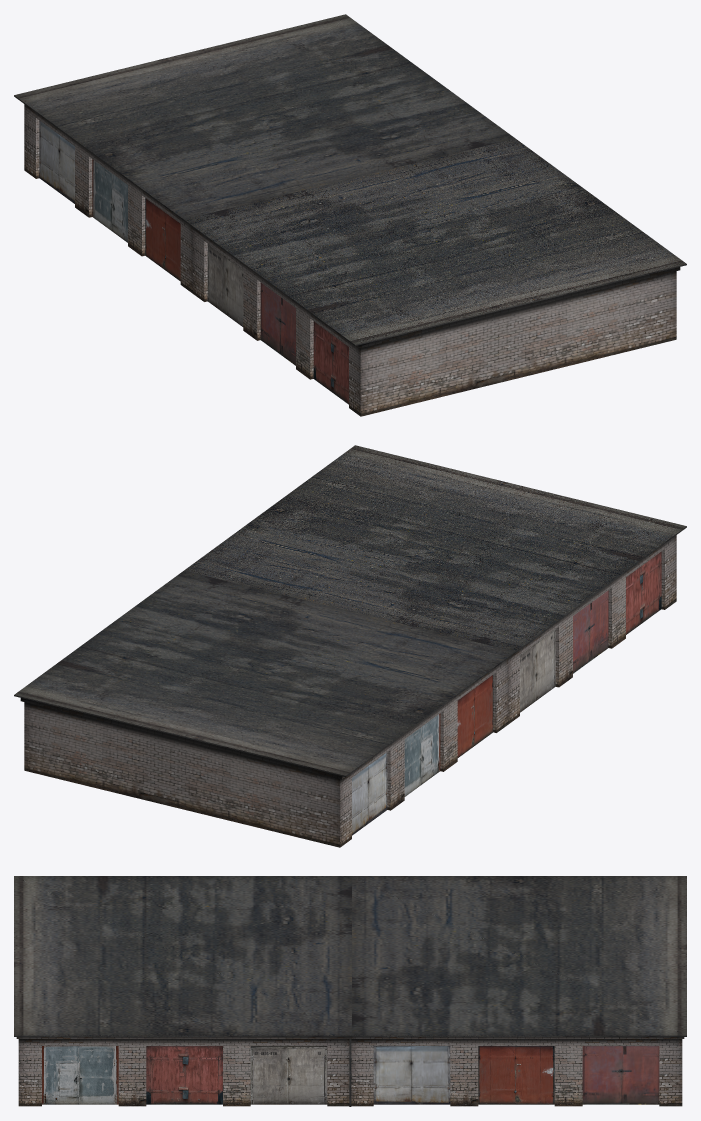
The model's file is Garage1205201.fbx.
The picture shows the model from 3 angles, top to bottom: view 1: azimuth 30°, elevation 25°; view 2: azimuth 150°, elevation 25°; view 3: azimuth 270°, elevation 25°; orthographic projection.
Visible parts, largest first — view 1: Object001; view 2: Object001; view 3: Object001.
Part boxes in pixels (x1=…): Object001: x1=14, y1=14, x2=686, y2=416; Object001: x1=14, y1=445, x2=686, y2=847; Object001: x1=14, y1=876, x2=686, y2=1106.
Bounding box in the file's own units: 12.21 × 2.65 × 21.74.
1 material, 1 textured.
